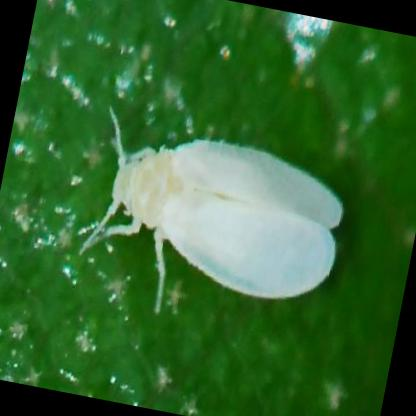whitefly: (114, 140, 344, 299)
